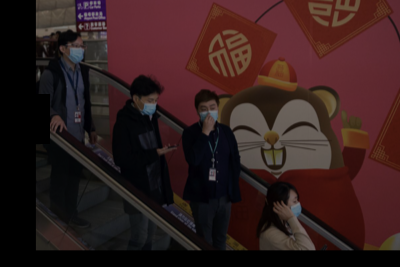with_mask: (63, 40, 85, 63), (198, 101, 219, 125), (137, 95, 159, 116), (286, 195, 302, 219)
